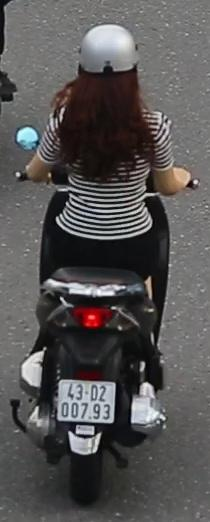LP: (56, 376, 117, 427)
helmet: (74, 25, 148, 129)
